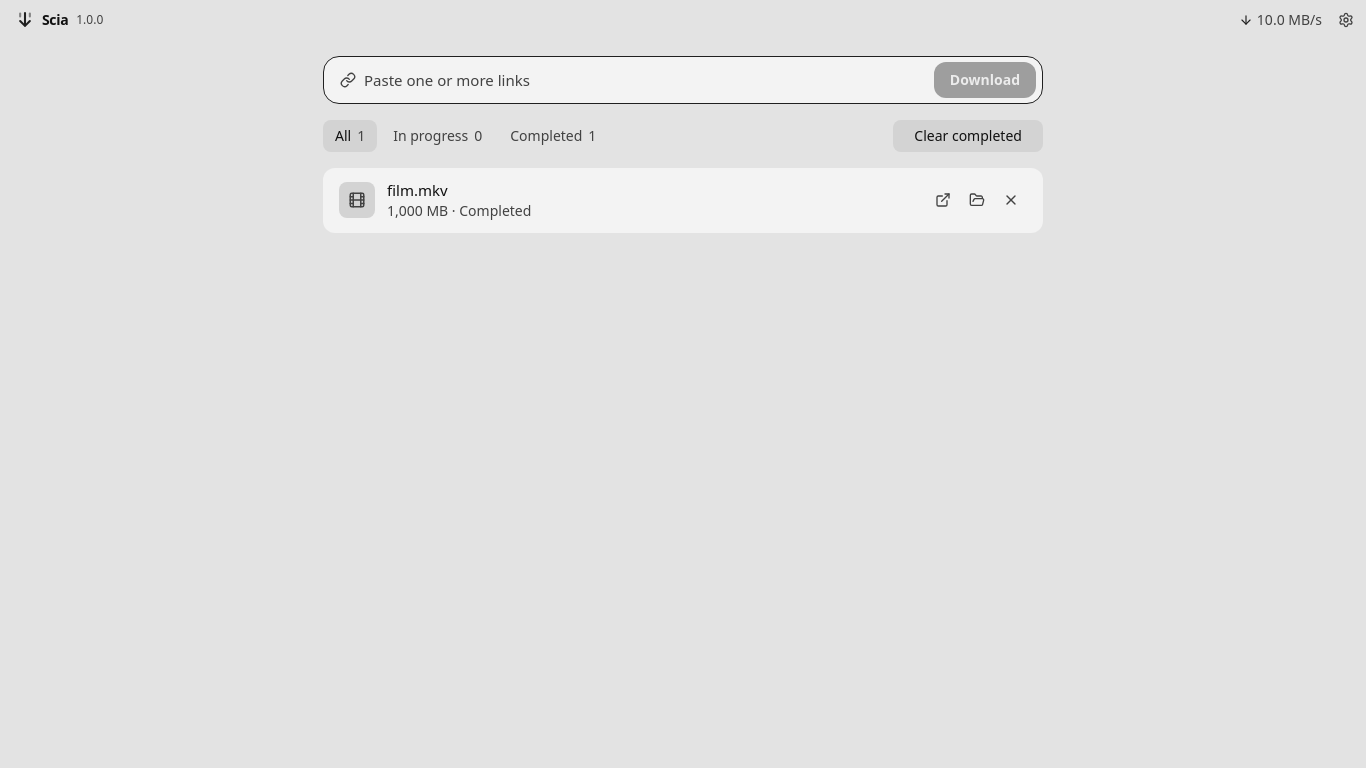
Test case: App › says the file did not open, not that the engine is silent, when main cannot open it
Click the button named "Open": (943, 200) [927,184,959,216]
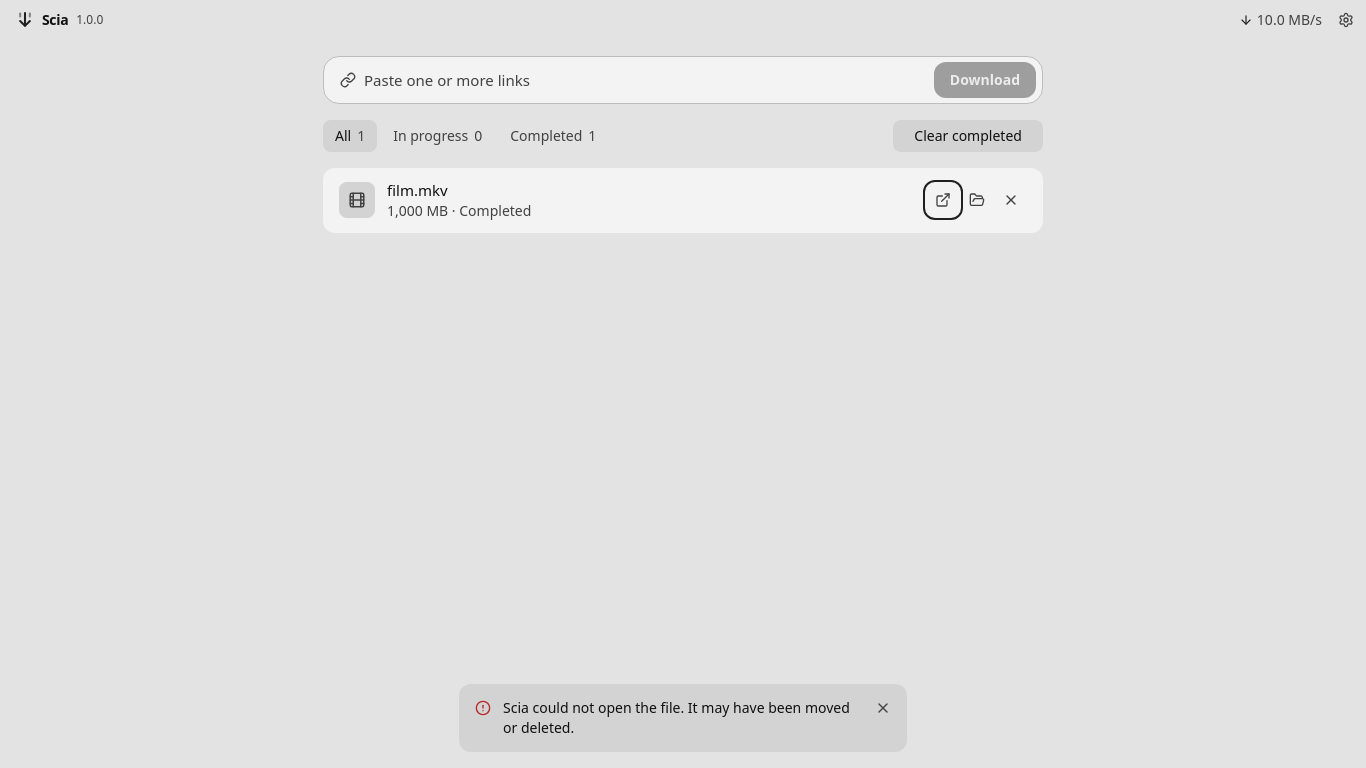
Expected: the list named "Notices" does not show "Scia’s engine is not responding. Trying again…", [459,684,907,752]
Expected: the message reads "Scia could not open the file. It may have been moved or deleted.", [503,698,850,737]
Click the button named "Dismiss": (883, 708) [867,692,899,724]
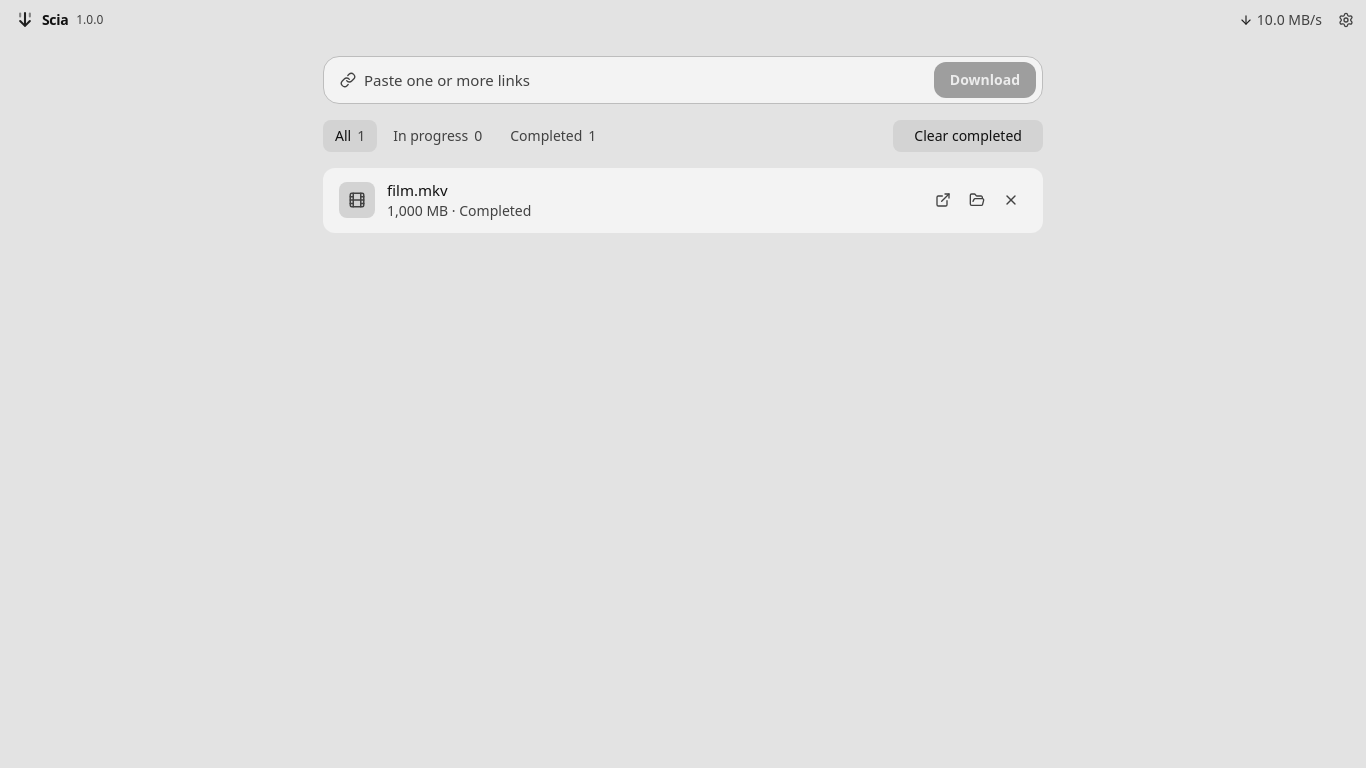
Expected: the list "Notices" is gone
